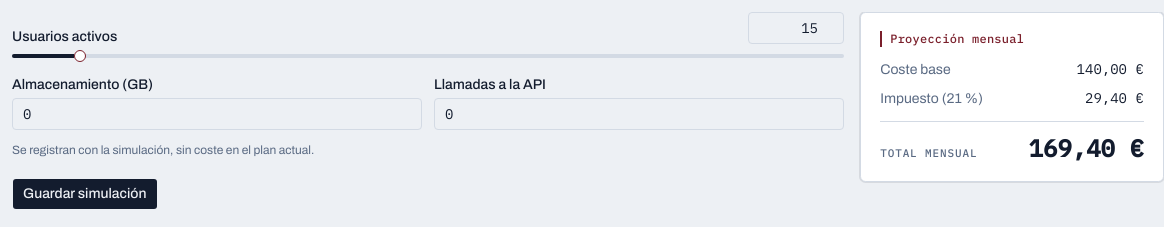
SimulationForm — el backend manda sobre la proyección (ADR-006) › al retocar el slider, lo guardado vuelve a ser una proyección
This screenshot has width=1164, height=227.
Click the button "Guardar simulación".
click(85, 194)  # box [12, 178, 158, 210]
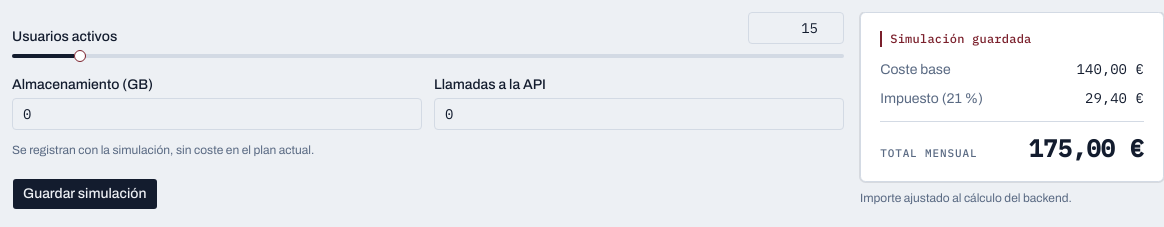
Check: the text "Simulación guardada" is shown, box [880, 31, 1144, 47]
Replace the text in the number field labelled "Usuarios activos" with "20" at (796, 28), box [748, 12, 844, 44]
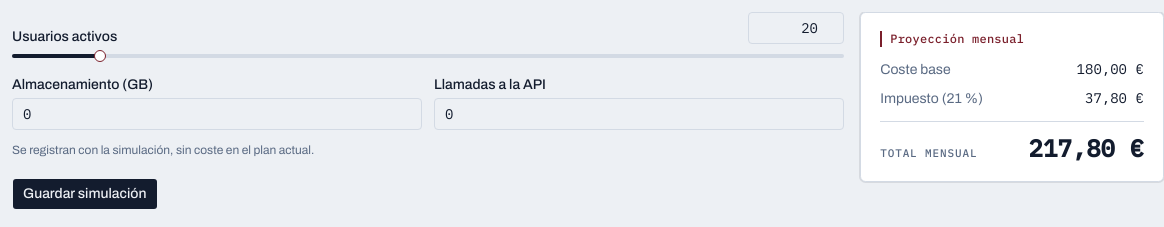
Check: the text "Proyección mensual" is shown, box [880, 31, 1144, 47]
Check: the text "217,80 €" is shown, box [1029, 132, 1144, 164]
Check: the text "Importe ajustado al cálculo del backend." is gone
